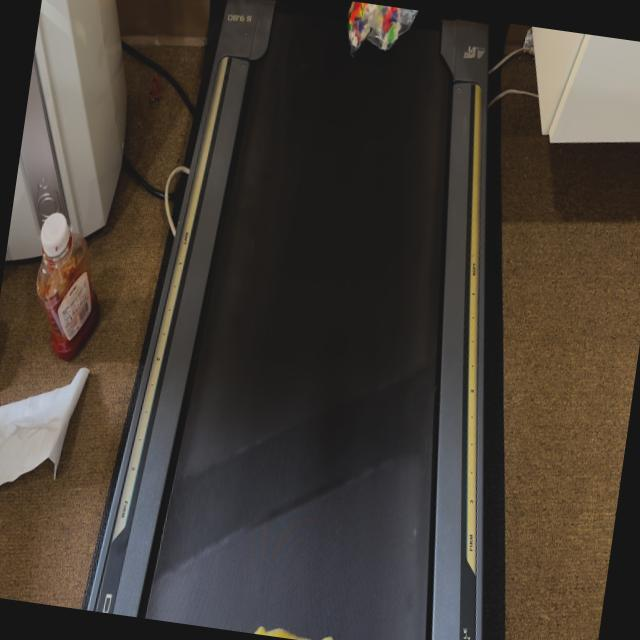Trash: (340, 1, 420, 64)
